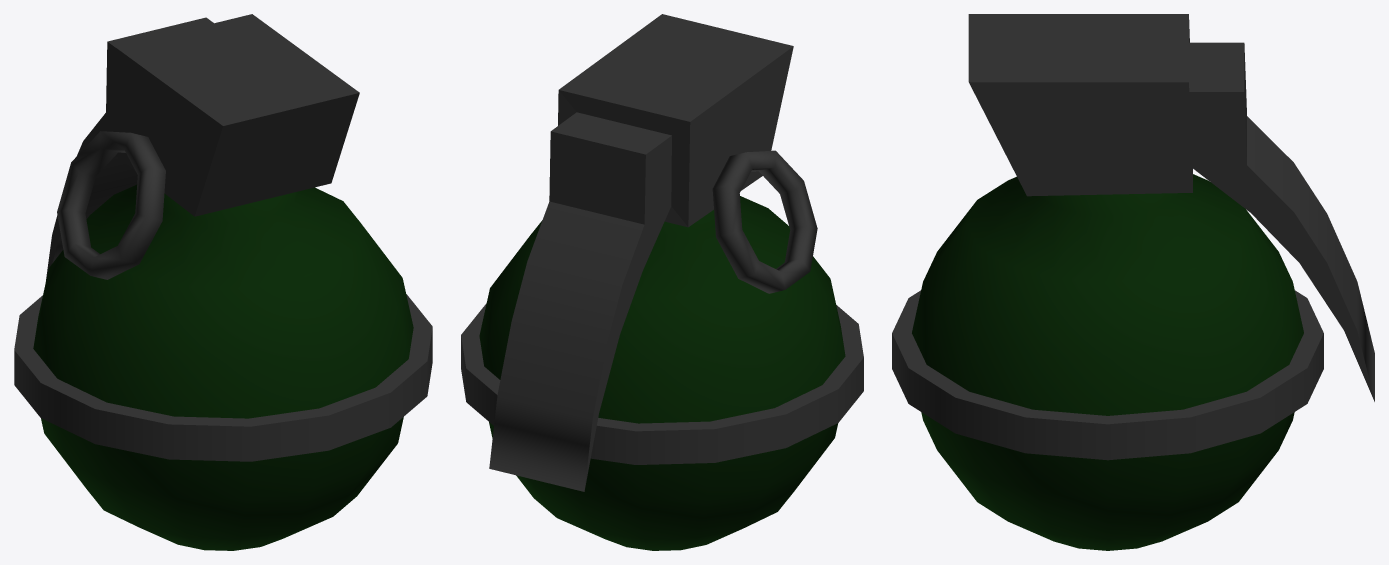
Rendered from Granade.FBX.
3 renders of one model, left to right at view 1: azimuth 30°, elevation 25°; view 2: azimuth 150°, elevation 25°; view 3: azimuth 270°, elevation 25°, orthographic. The views are drawn at different scales.
Visible parts, largest first — view 1: Sphere001; view 2: Sphere001; view 3: Sphere001.
Part boxes in pixels (box(x1,y1,x2,y2)): Sphere001: box(14, 14, 432, 550); Sphere001: box(461, 14, 863, 550); Sphere001: box(892, 14, 1374, 550).
Bounding box in the file's own units: 15.58 × 19.27 × 17.42.
